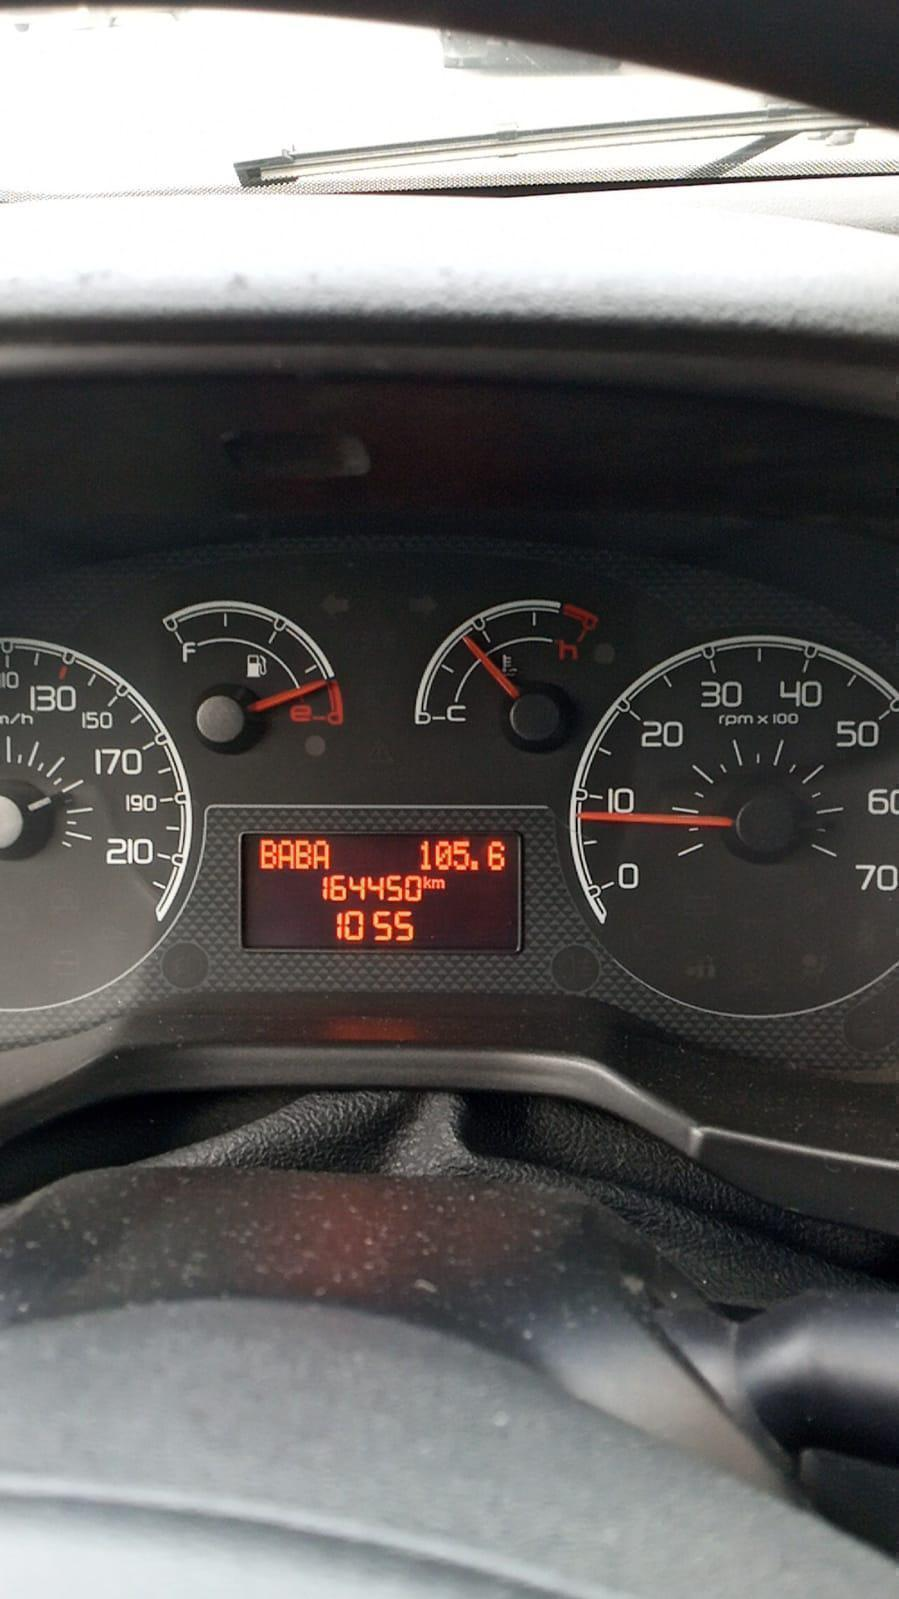,: (470, 858, 481, 872)
0: (344, 909, 364, 942), (435, 839, 452, 872), (403, 873, 422, 902)
1: (418, 837, 432, 871), (334, 908, 342, 942), (321, 874, 328, 903)
4: (348, 874, 366, 902), (368, 874, 384, 902)
5: (394, 909, 414, 943), (372, 909, 392, 942), (453, 839, 470, 871), (385, 873, 402, 902)
6: (486, 839, 507, 872), (329, 873, 346, 902)
X: (313, 837, 331, 871), (259, 837, 277, 870), (277, 839, 293, 870), (295, 837, 310, 871), (431, 877, 445, 890), (422, 874, 431, 890)
odometer: (234, 828, 530, 962)
